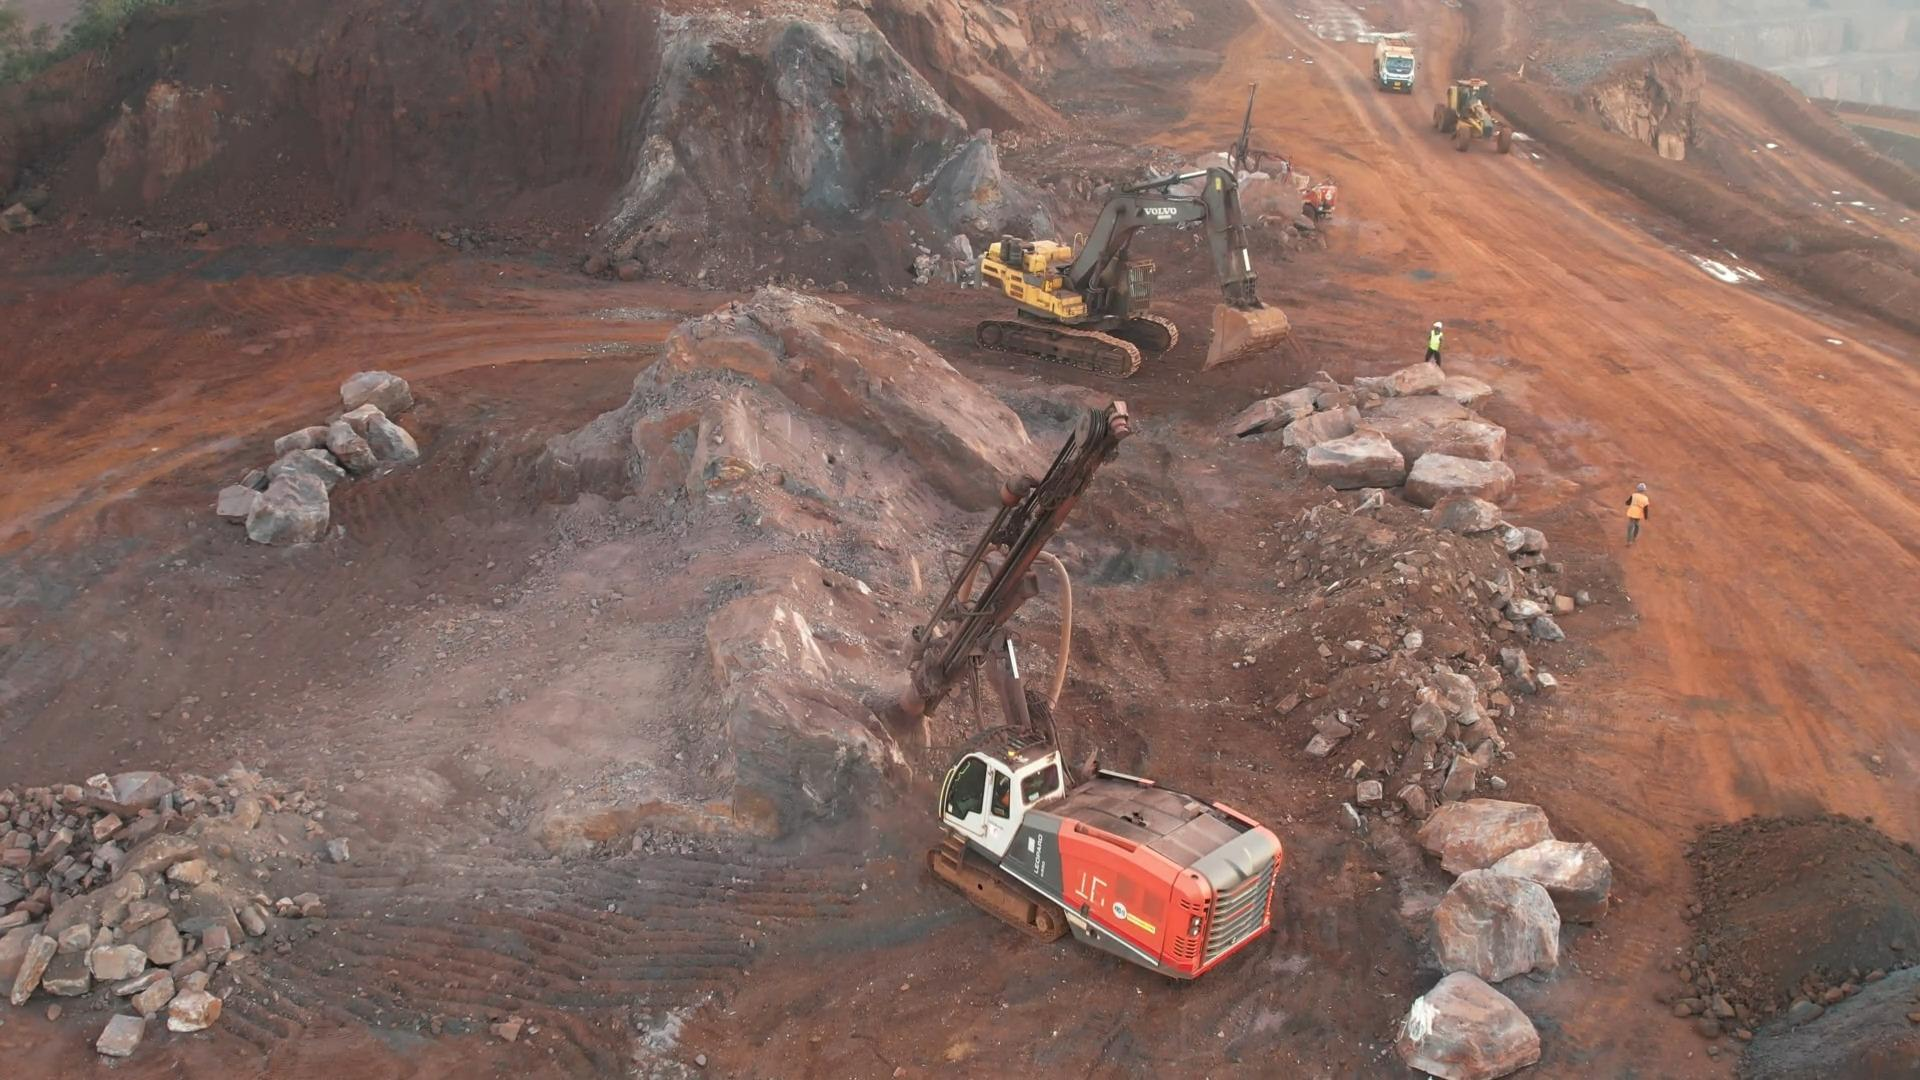excavator: (985, 170, 1266, 364)
